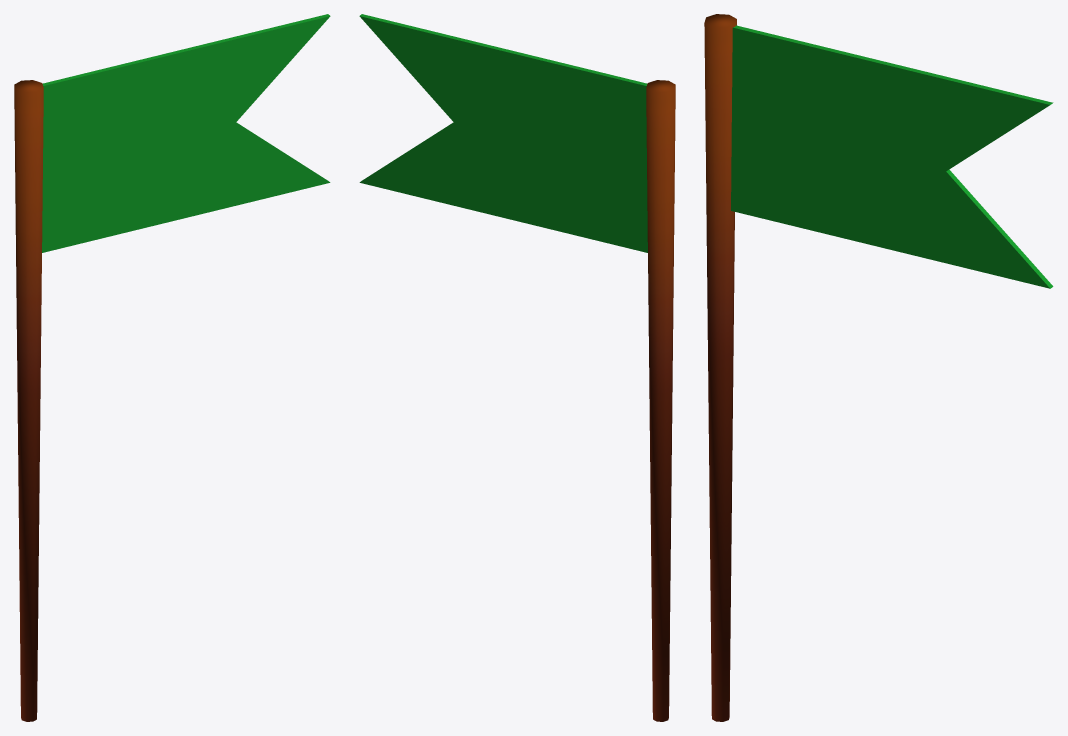
Rendered from Skewer_01.002.fbx.
3 renders of one model, left to right at view 1: azimuth 30°, elevation 25°; view 2: azimuth 150°, elevation 25°; view 3: azimuth 330°, elevation 25°, orthographic. The views are drawn at different scales.
Visible parts, largest first — view 1: Skewer_01.002; view 2: Skewer_01.002; view 3: Skewer_01.002.
Part boxes in pixels (left/top/right/bottom): Skewer_01.002: left=14, top=14, right=330, bottom=721; Skewer_01.002: left=359, top=14, right=675, bottom=721; Skewer_01.002: left=704, top=14, right=1053, bottom=721.
Size of the model in its own units: 43.07 by 3.64 by 82.99.
